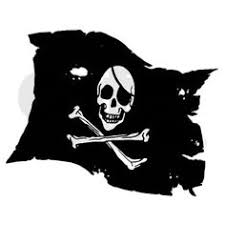Jolly Roger Flag: (5, 28, 219, 200)
